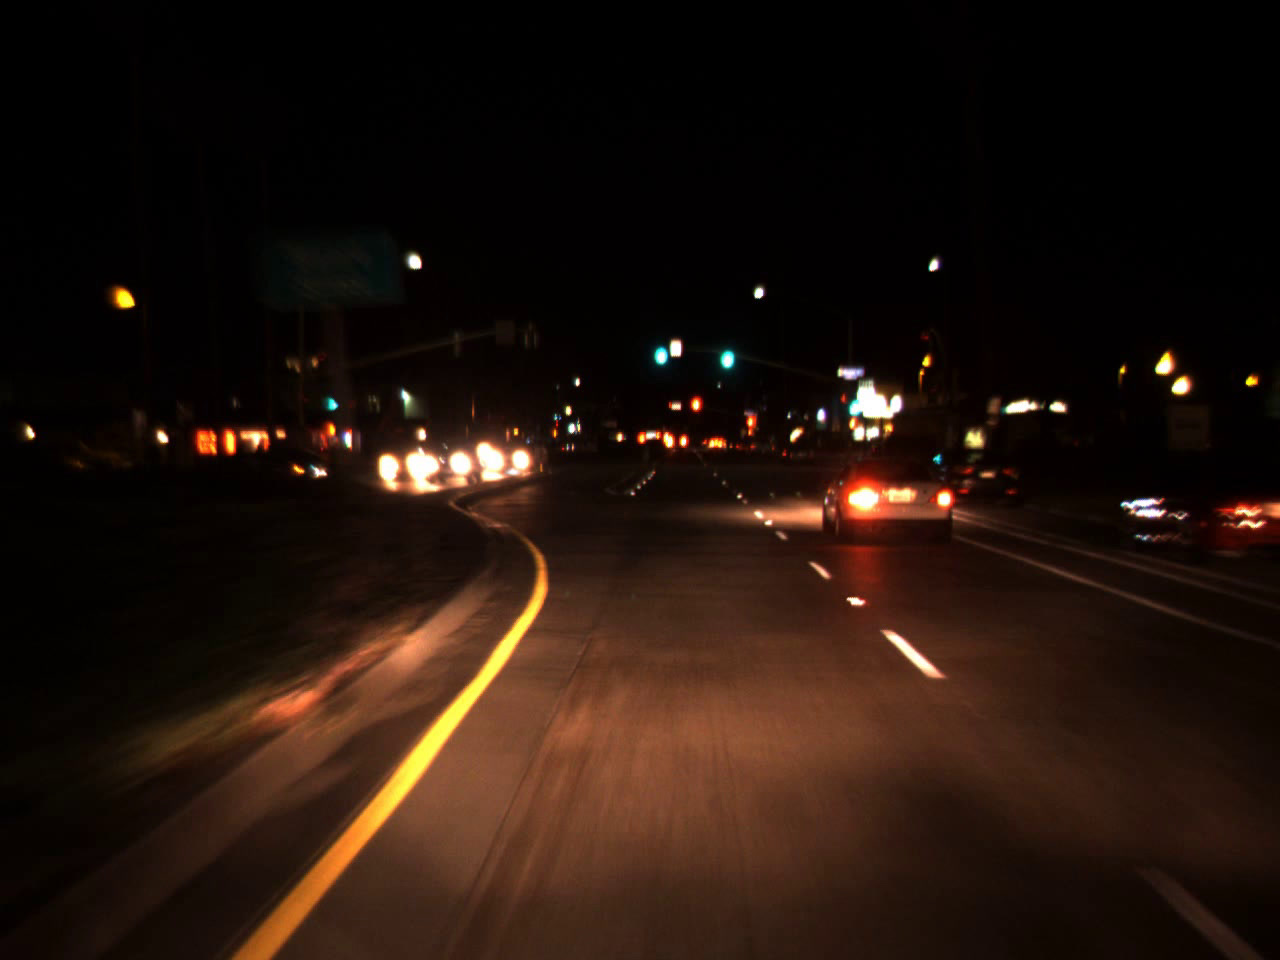go: (650, 325, 669, 370), (716, 332, 737, 371), (844, 384, 860, 420), (326, 386, 335, 413)
stop: (688, 394, 703, 429), (743, 414, 758, 441)
